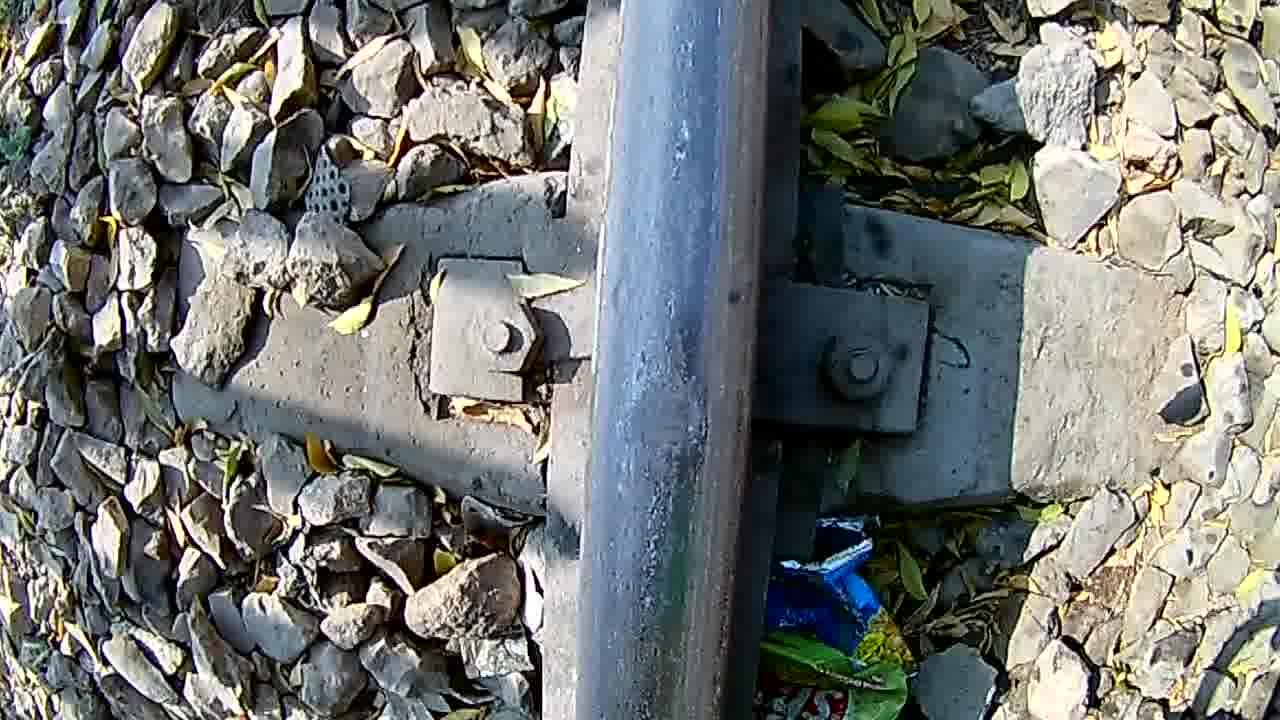bolt_missing: (590, 234, 769, 566)
